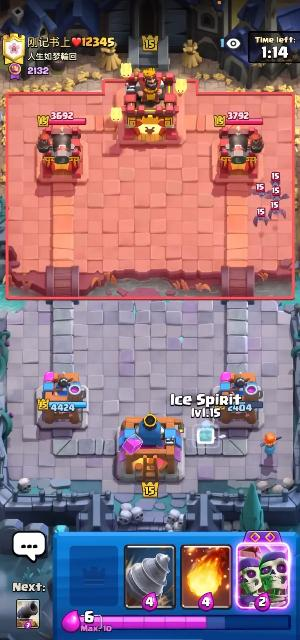ally_melee: (261, 432, 279, 464)
enemy_melee: (266, 186, 289, 203), (268, 201, 287, 221), (253, 206, 268, 227), (251, 183, 269, 197), (270, 172, 281, 188)
